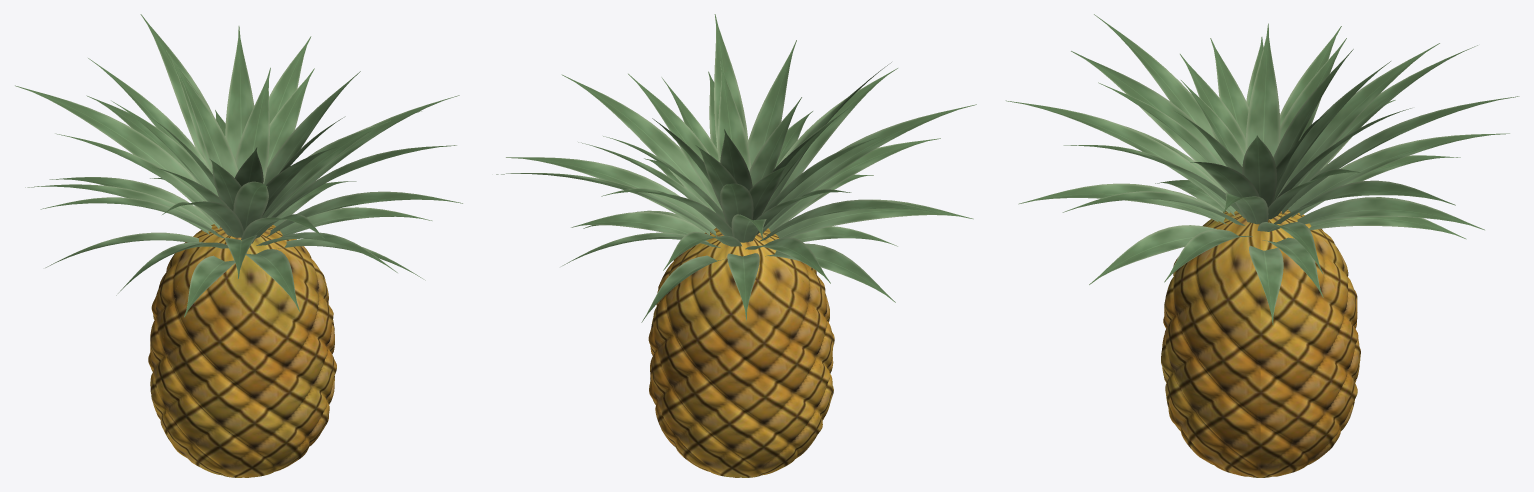
File: ananas.glb
3 views of the same model, side by side, from view 1: azimuth 30°, elevation 25°; view 2: azimuth 150°, elevation 25°; view 3: azimuth 270°, elevation 25° (orthographic). The views are drawn at different scales.
Parts seen in each view (by area): view 1: entier_peau, moitie_A_peau, entier_extra20, moitie_B_peau, entier_extra31, entier_extra41, entier_extra39, entier_extra29, entier_extra34, entier_extra16, entier_extra26, entier_extra23 (+26 smaller); view 2: entier_peau, moitie_B_peau, entier_extra21, entier_extra22, entier_extra13, entier_extra9, moitie_A_peau, entier_extra32, entier_extra14, entier_extra19, entier_extra5, entier_extra37 (+24 smaller); view 3: entier_peau, moitie_B_peau, moitie_A_peau, entier_extra38, entier_extra19, entier_extra15, entier_extra10, entier_extra27, entier_extra28, entier_extra23, entier_extra22, entier_extra11 (+25 smaller).
Part boxes in pixels (x1,y1,x2,y2): entier_peau: (148,224,336,477); moitie_A_peau: (161,226,336,477); entier_extra20: (15,85,219,228); moitie_B_peau: (148,224,275,457); entier_extra31: (225,26,254,159); entier_extra41: (172,60,238,177); entier_extra39: (235,67,270,183); entier_extra29: (261,120,390,218); entier_extra34: (264,71,360,184); entier_extra16: (264,191,462,238); entier_extra26: (267,68,314,167); entier_extra23: (140,14,212,159); entier_peau: (648,228,834,477); moitie_B_peau: (648,229,821,477); entier_extra21: (561,74,715,212); entier_extra22: (762,104,976,232); entier_extra13: (506,157,715,234); entier_extra9: (776,199,973,238); moitie_A_peau: (715,228,834,458); entier_extra32: (747,40,796,165); entier_extra14: (768,138,940,231); entier_extra19: (778,68,897,192); entier_extra5: (571,212,704,234); entier_extra37: (718,61,751,171); entier_peau: (1161,209,1360,477); moitie_B_peau: (1260,210,1360,477); moitie_A_peau: (1161,211,1260,477); entier_extra38: (1245,23,1280,157); entier_extra19: (1005,100,1235,215); entier_extra15: (1288,133,1509,217); entier_extra10: (1297,197,1484,230); entier_extra27: (1071,51,1227,192); entier_extra28: (1284,43,1439,188); entier_extra23: (1280,96,1519,216); entier_extra22: (1094,14,1214,138); entier_extra11: (1018,183,1227,224).
Size of the model in its own units: 0.2303 by 0.2047 by 0.2351.
Materials: 3 (3 with a texture image).
